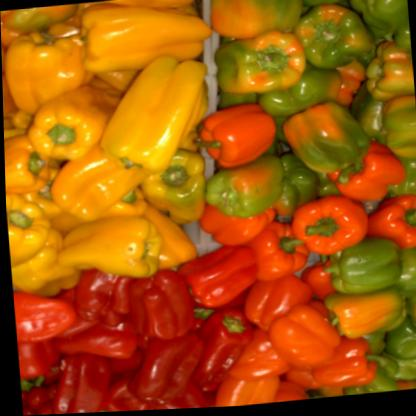bell_pepper: (95, 51, 218, 181), (72, 6, 214, 77), (45, 211, 163, 287), (285, 99, 371, 190), (118, 334, 212, 412), (213, 25, 309, 99), (288, 192, 379, 263), (305, 241, 407, 304), (265, 303, 345, 377), (172, 247, 255, 317), (200, 157, 285, 224), (122, 268, 188, 353), (191, 106, 275, 172), (319, 285, 407, 344), (41, 350, 114, 415)
